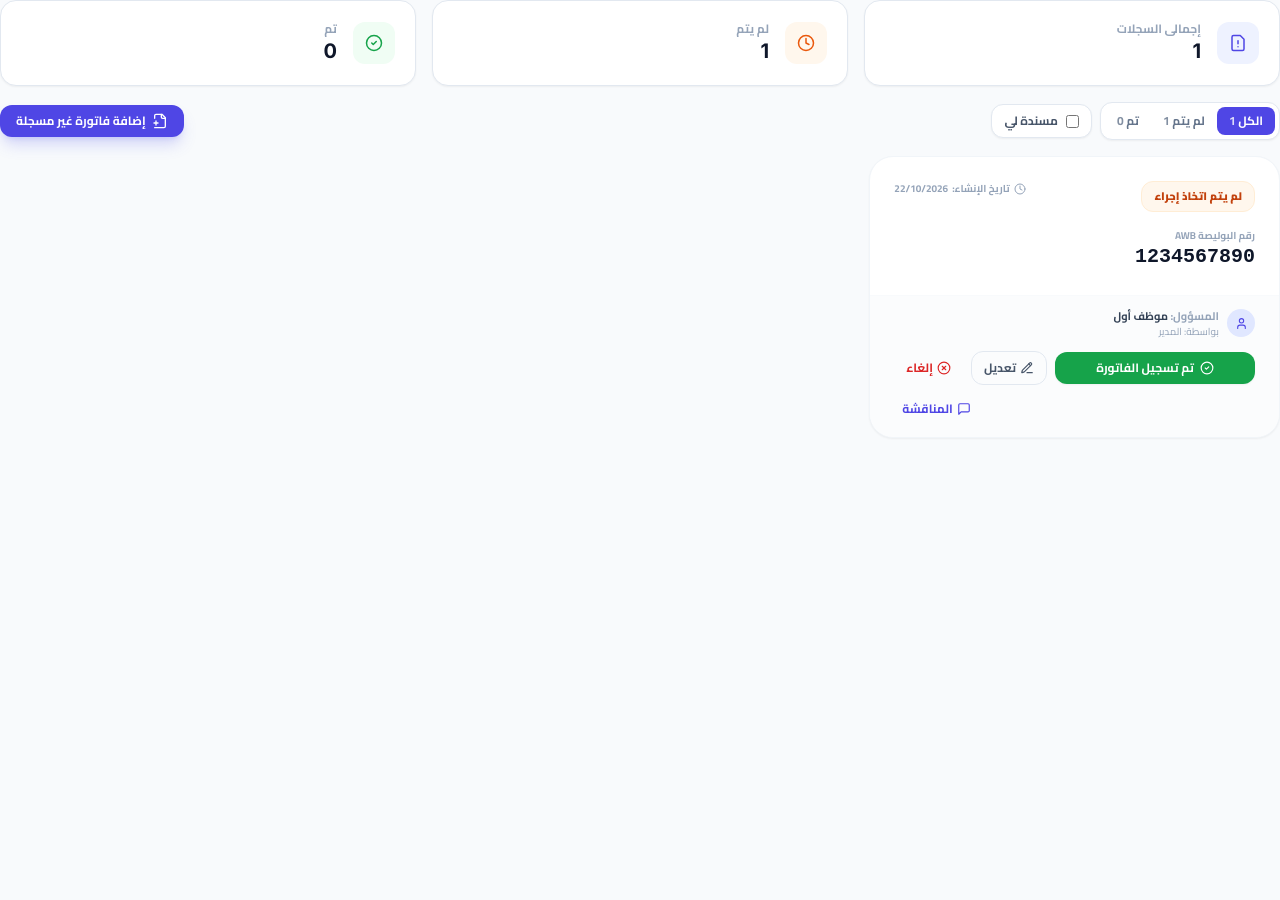
Test case: UnregisteredInvoicesPanel — editing a pending record › validation: an invalid AWB or a future date is shown and nothing is sent
This screenshot has width=1280, height=900.
Click the button with aria-label "تعديل سجل البوليصة": (1009, 368) top-left (971, 351), bottom-right (1047, 385)
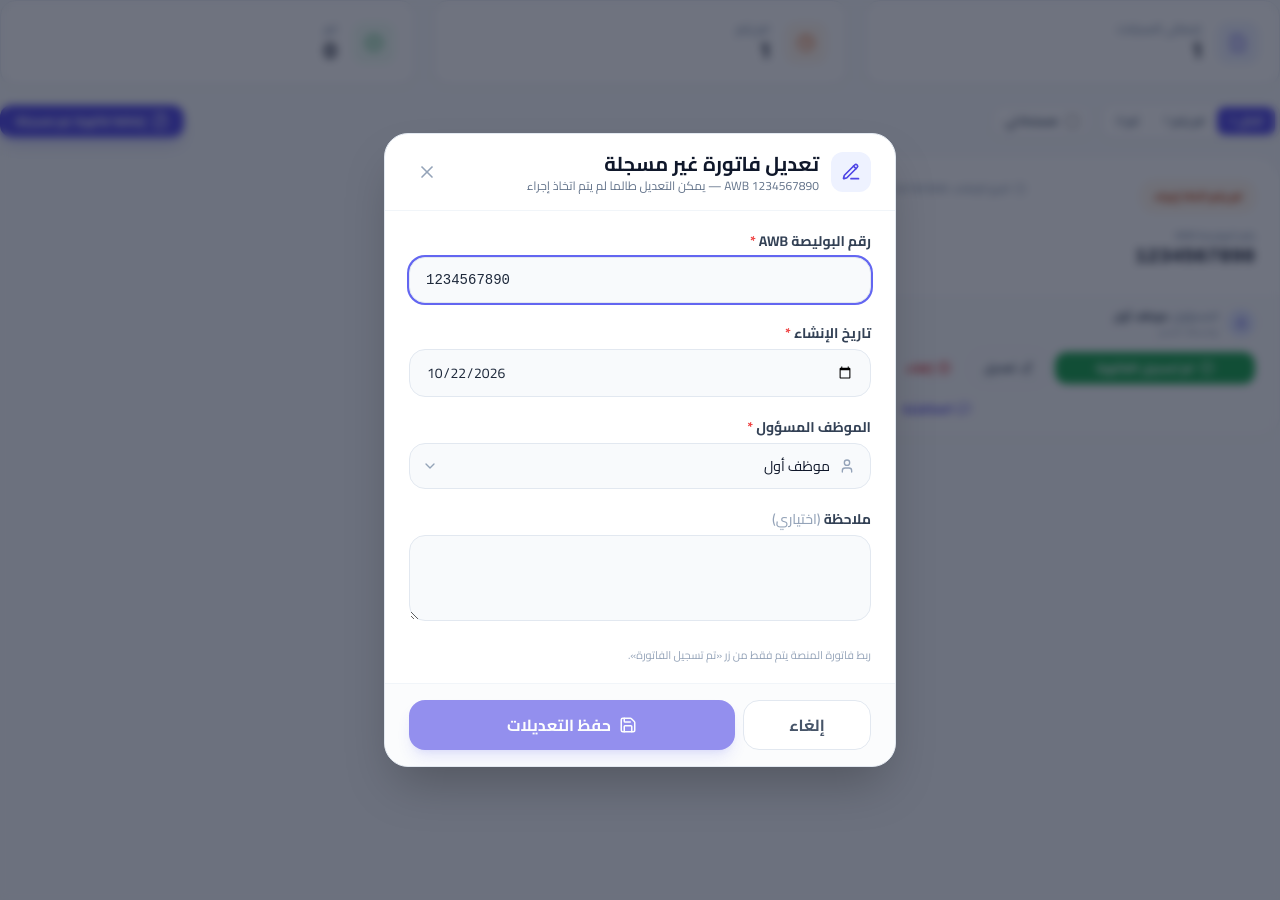
Replace the text in the field labelled "رقم البوليصة AWB *" with "12": (640, 280) top-left (409, 257), bottom-right (871, 303)
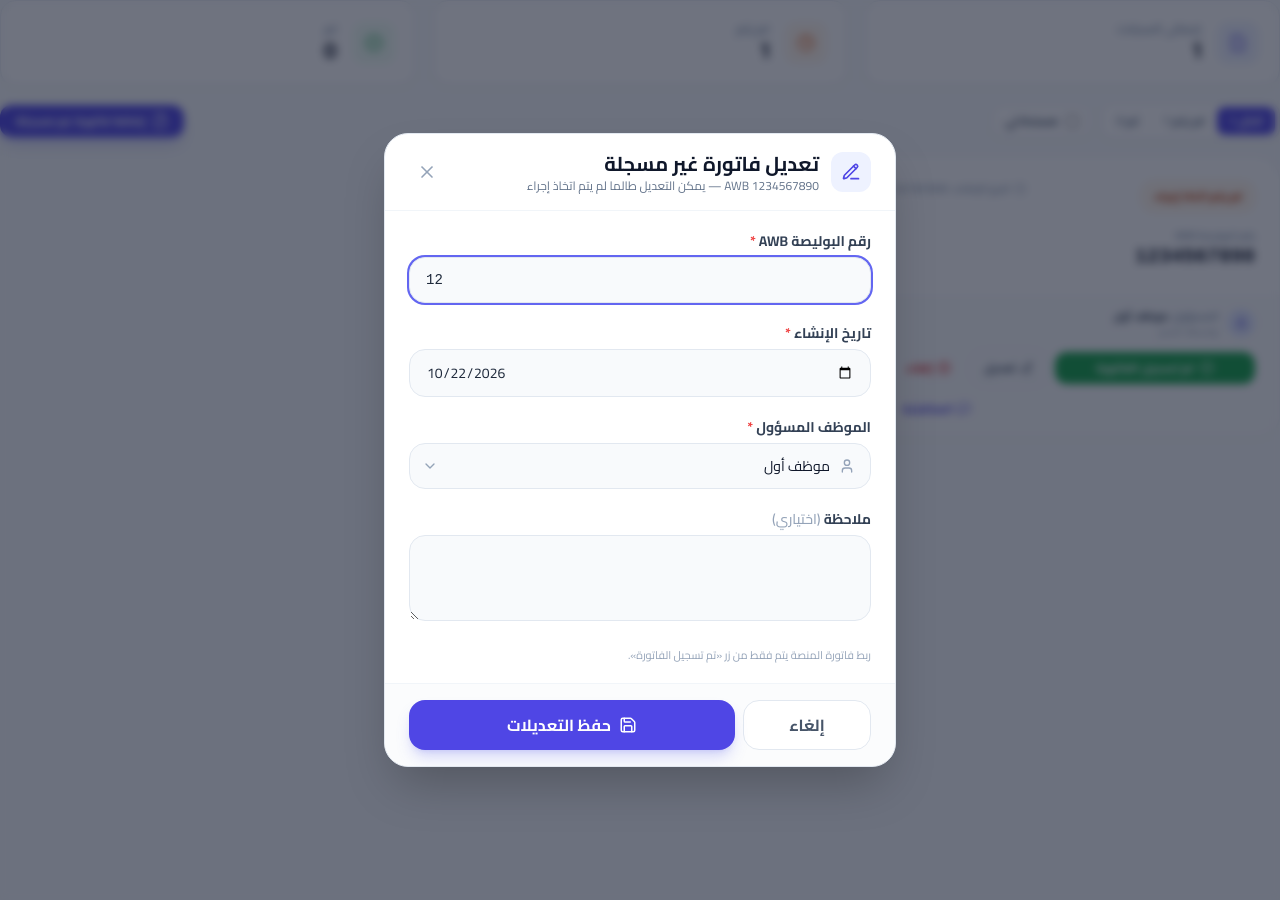
In the date field labelled "تاريخ الإنشاء *": (640, 373) top-left (409, 349), bottom-right (871, 397), type "2999-01-01"
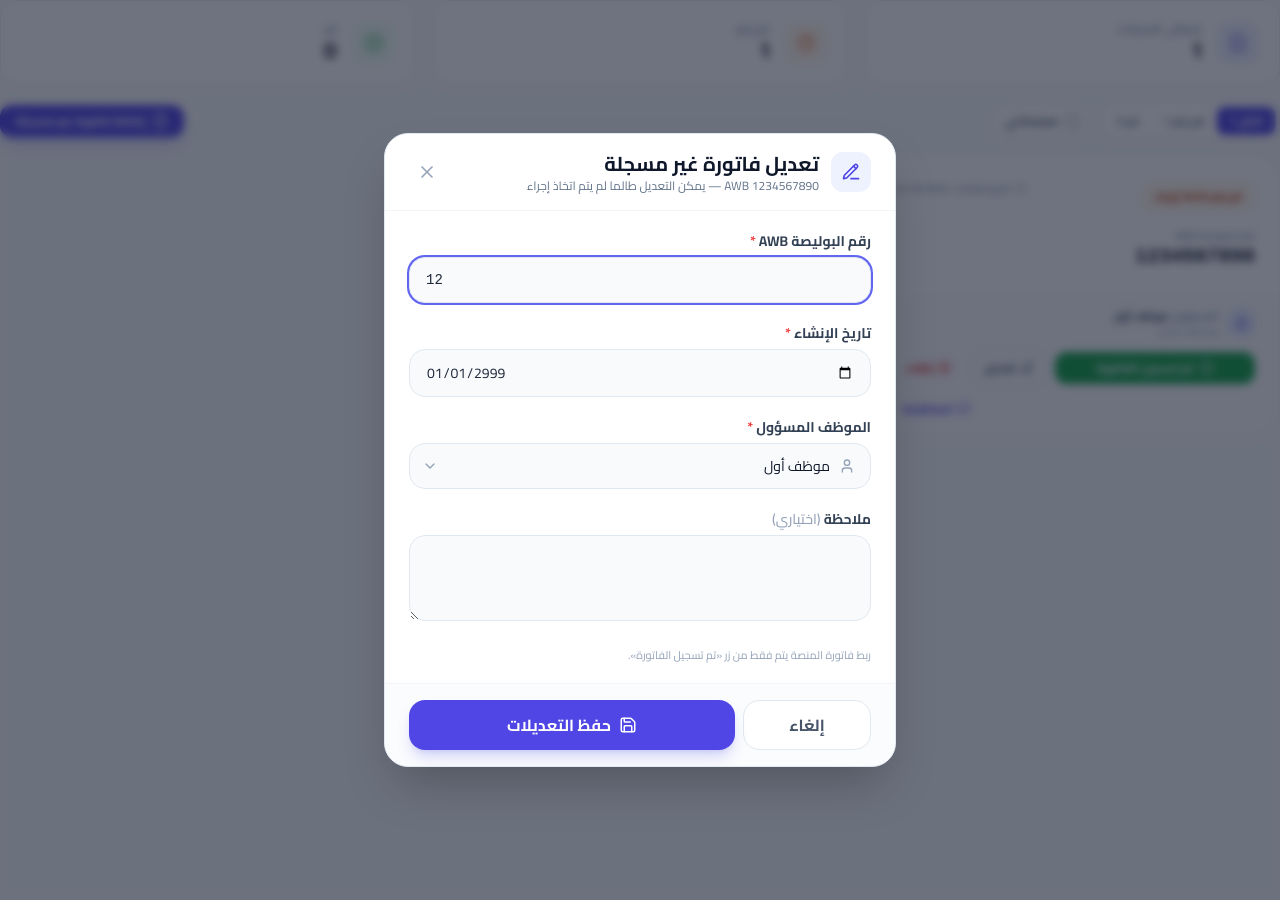
Click the button "حفظ التعديلات": (572, 725) top-left (409, 700), bottom-right (735, 750)
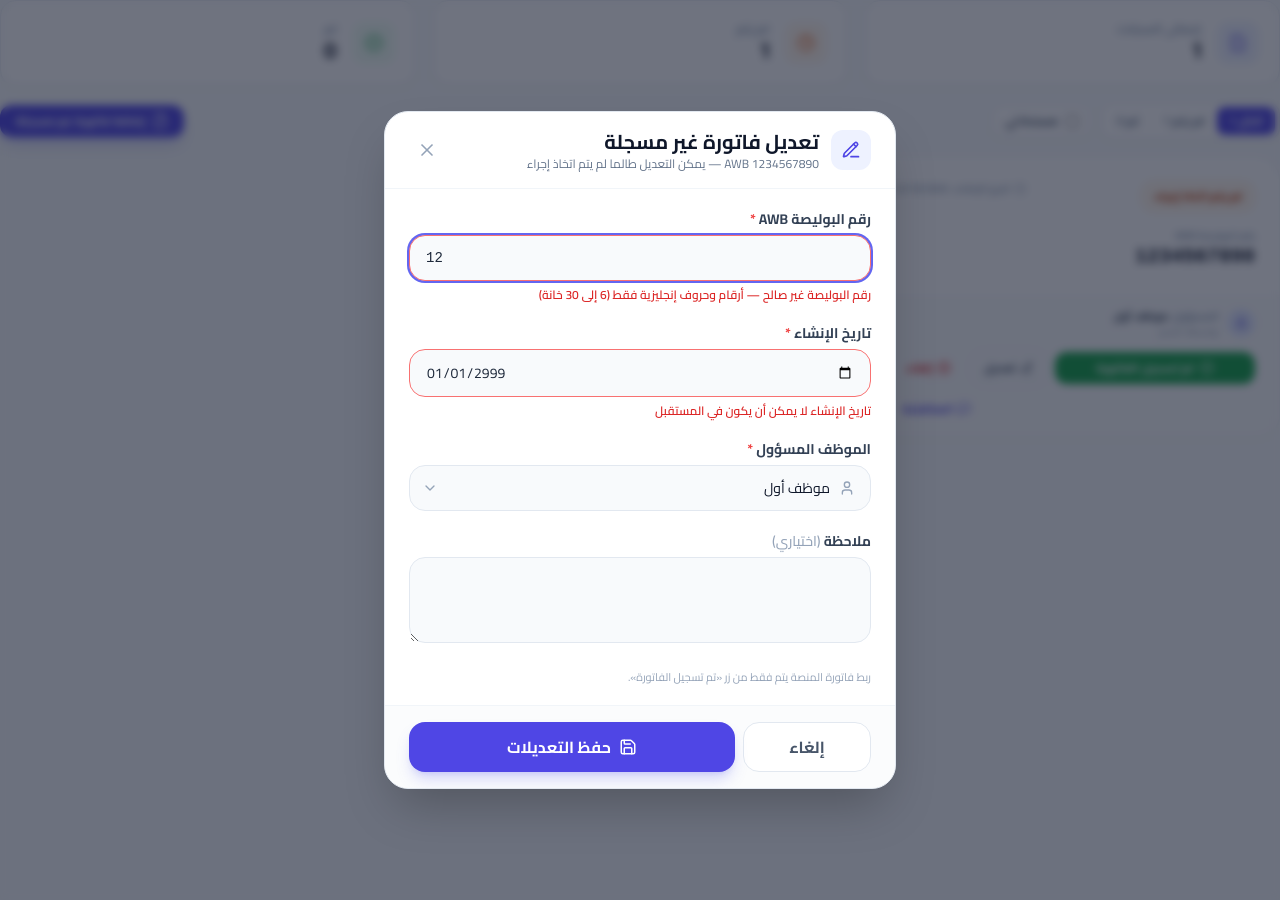
Expected: the text "رقم البوليصة غير صالح" is shown, top-left (539, 283), bottom-right (871, 306)
Expected: the text "تاريخ الإنشاء لا يمكن أن يكون في المستقبل" is shown, top-left (655, 399), bottom-right (871, 422)
